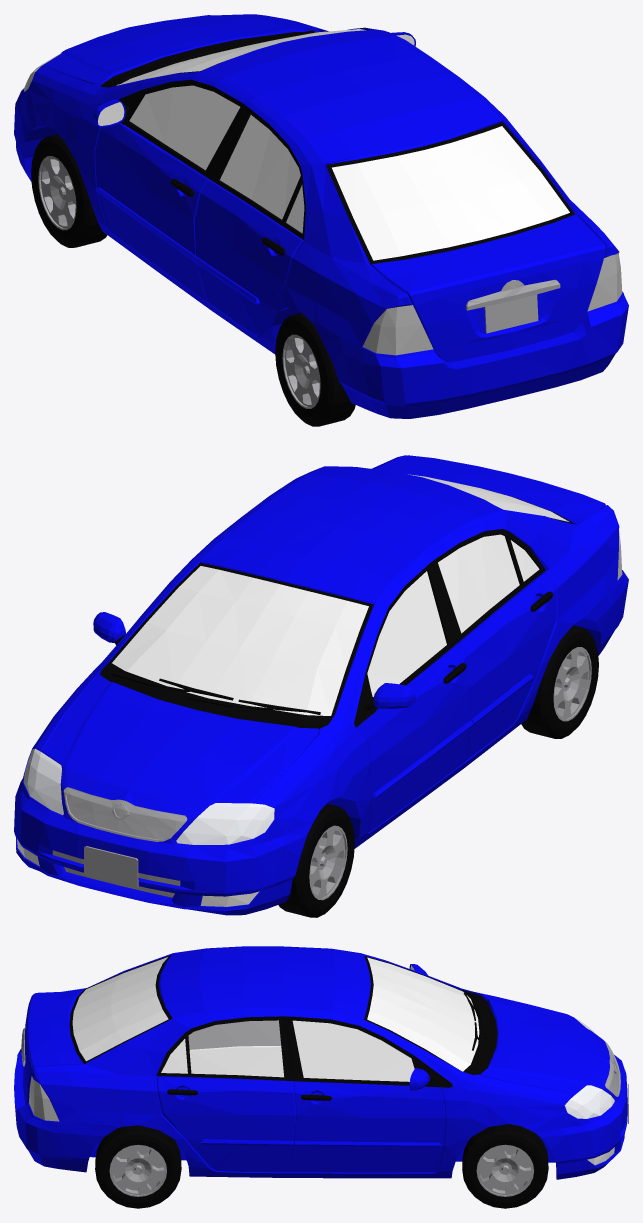
Rendered from Car_Sedan_01.fbx.
3 views of the same model, one above another, from view 1: azimuth 30°, elevation 25°; view 2: azimuth 150°, elevation 25°; view 3: azimuth 270°, elevation 25° (orthographic). The views are drawn at different scales.
Parts seen in each view (by area): view 1: SM_Car_Sedan_01_Particle.mo; view 2: SM_Car_Sedan_01_Particle.mo; view 3: SM_Car_Sedan_01_Particle.mo.
Part boxes in pixels (x1,y1,x2,y2): SM_Car_Sedan_01_Particle.mo: [14, 14, 628, 426]; SM_Car_Sedan_01_Particle.mo: [14, 455, 628, 917]; SM_Car_Sedan_01_Particle.mo: [14, 946, 628, 1208].
Bounding box in the file's own units: 238 × 177 × 528.
